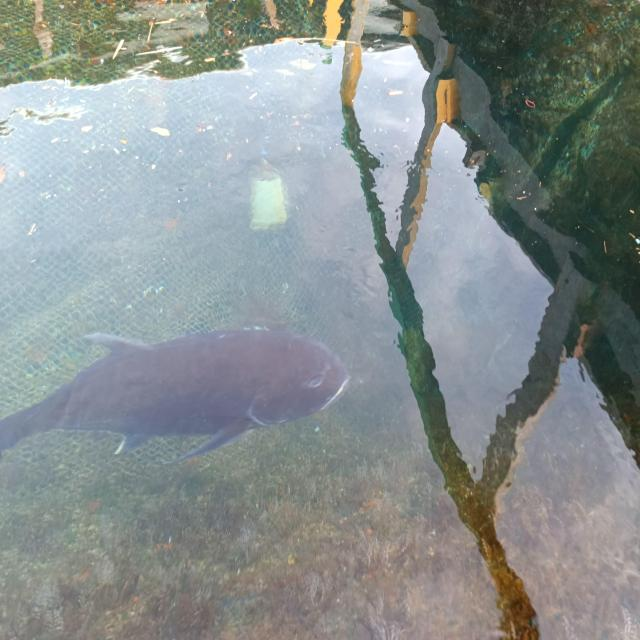ikan: (29, 294, 358, 478)
